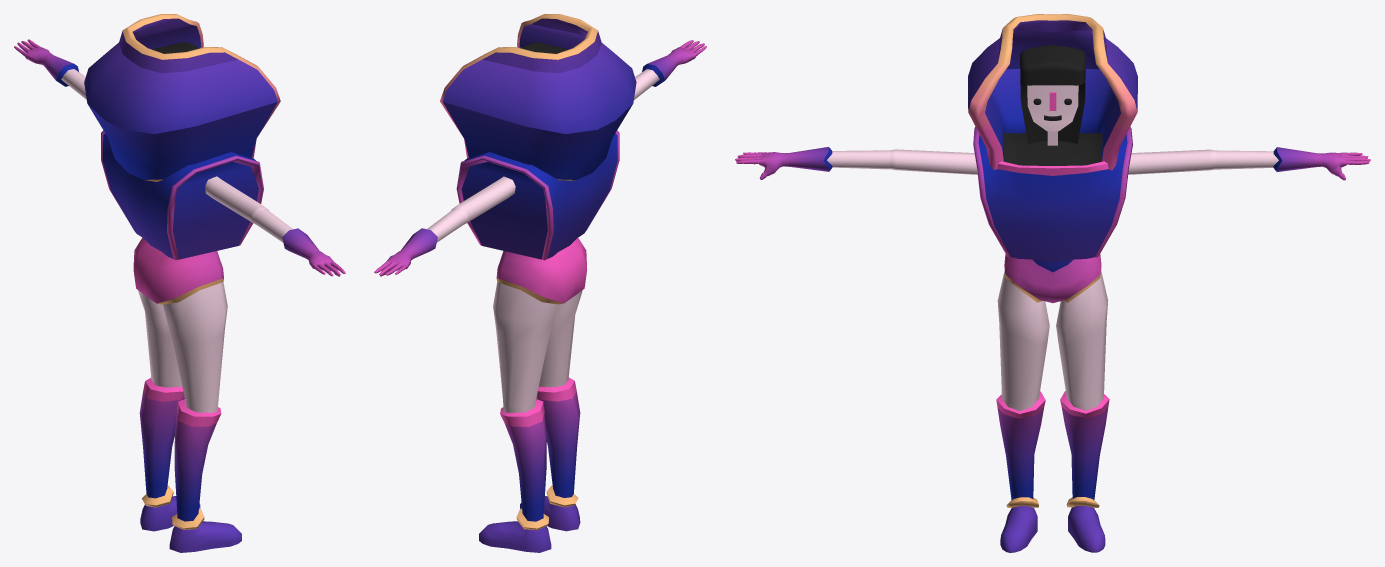
File: Moon Girl.glb
The picture shows the model from 3 angles, left to right: view 1: azimuth 30°, elevation 25°; view 2: azimuth 150°, elevation 25°; view 3: azimuth 270°, elevation 25°; orthographic projection.
Visible parts, largest first — view 1: _100Avatars_177_MoonGirl; view 2: _100Avatars_177_MoonGirl; view 3: _100Avatars_177_MoonGirl.
Boxes of the visible parts, x1,y1,x2,y2 form: _100Avatars_177_MoonGirl: [14, 14, 345, 552]; _100Avatars_177_MoonGirl: [374, 14, 706, 552]; _100Avatars_177_MoonGirl: [735, 14, 1370, 552].
Bounding box in the file's own units: 1.15 × 4.06 × 4.68.
Materials: 1 (1 with a texture image).
